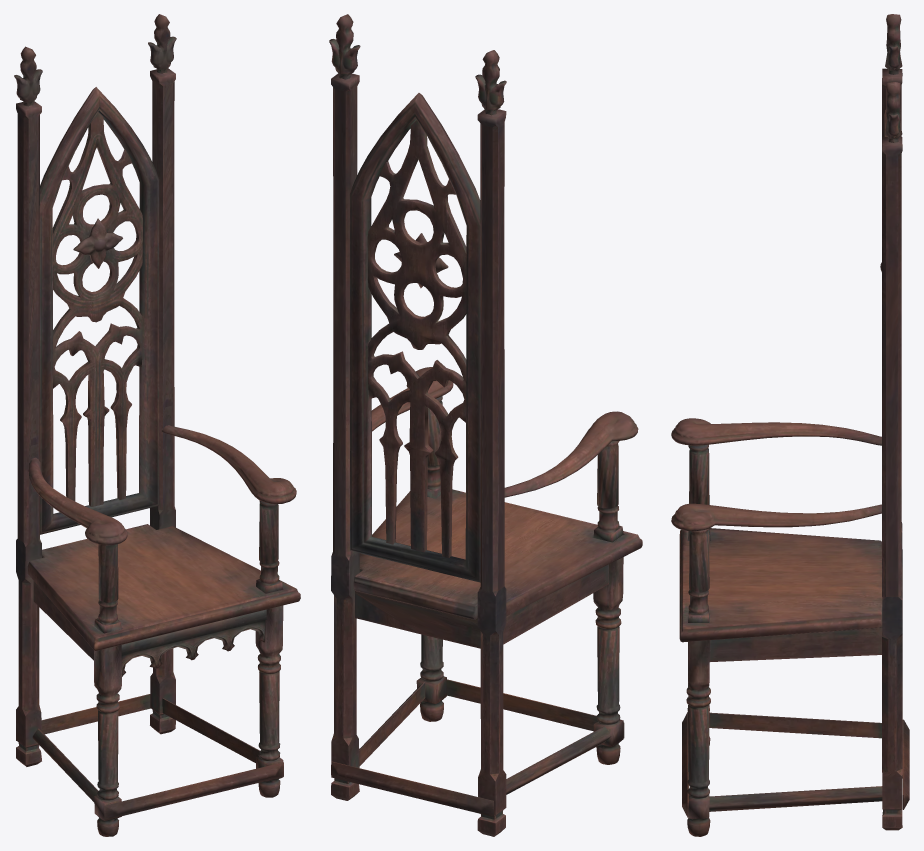
The model's file is woodenchair_01.glb.
The picture shows the model from 3 angles, left to right: view 1: azimuth 30°, elevation 25°; view 2: azimuth 150°, elevation 25°; view 3: azimuth 270°, elevation 25°; orthographic projection. The views are drawn at different scales.
Visible parts, largest first — view 1: WoodenChair_01; view 2: WoodenChair_01; view 3: WoodenChair_01.
Part boxes in pixels (x1,y1,x2,y2): WoodenChair_01: [14, 14, 300, 836]; WoodenChair_01: [329, 14, 642, 836]; WoodenChair_01: [671, 14, 909, 836].
Size of the model in its own units: 0.6882 by 2.27 by 0.6585.
1 material, 1 textured.
